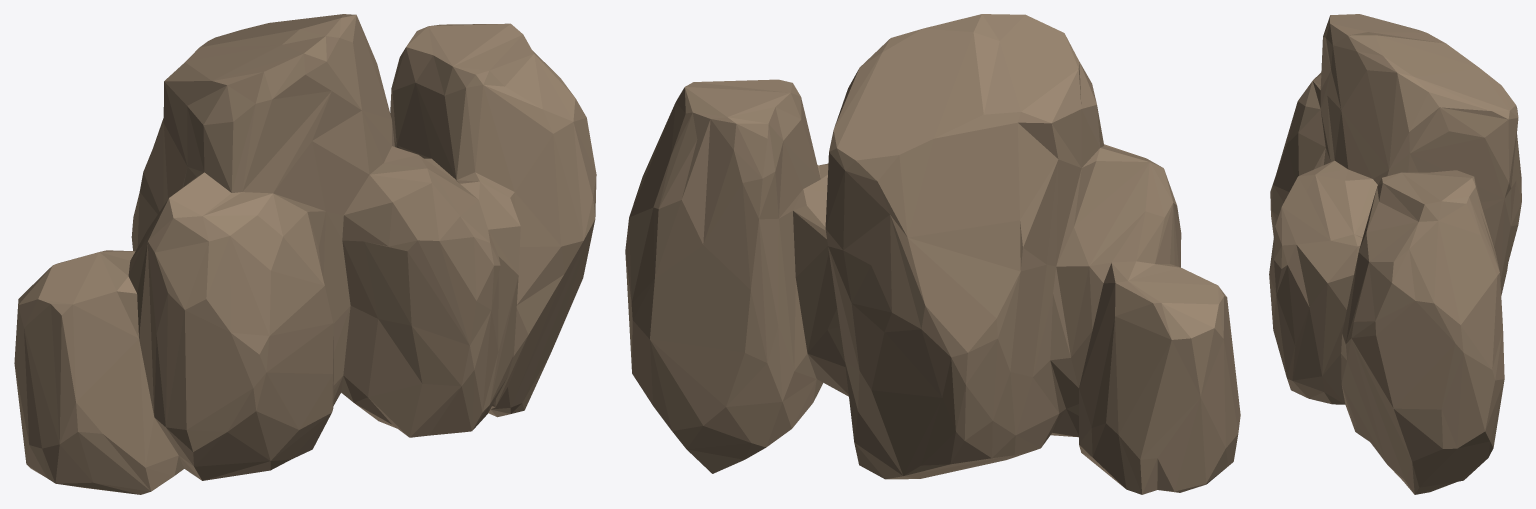
The model's file is SM_Env_Cliff_03.fbx.
The picture shows the model from 3 angles, left to right: view 1: azimuth 30°, elevation 25°; view 2: azimuth 150°, elevation 25°; view 3: azimuth 270°, elevation 25°; orthographic projection. The views are drawn at different scales.
Parts seen in each view (by area): view 1: SM_Env_Cliff_03; view 2: SM_Env_Cliff_03; view 3: SM_Env_Cliff_03.
Boxes of the visible parts, box(x1,y1,x2,y2) form: SM_Env_Cliff_03: box(14, 14, 596, 494); SM_Env_Cliff_03: box(625, 14, 1240, 494); SM_Env_Cliff_03: box(1269, 14, 1521, 494).
Bounding box in the file's own units: 1853 × 1465 × 908.
